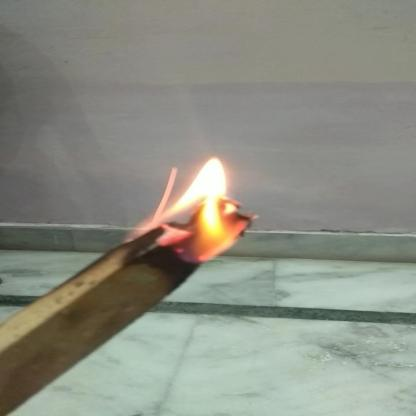fire: (134, 150, 268, 268)
